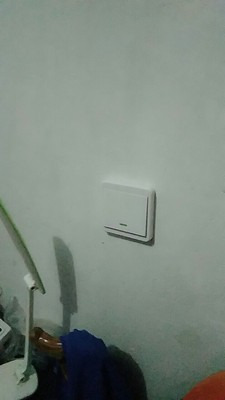switch: (100, 188, 144, 240)
